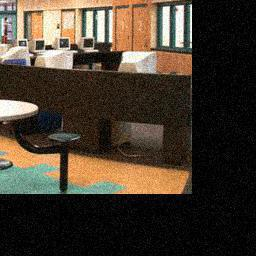Puerta: (117, 8, 151, 50)
